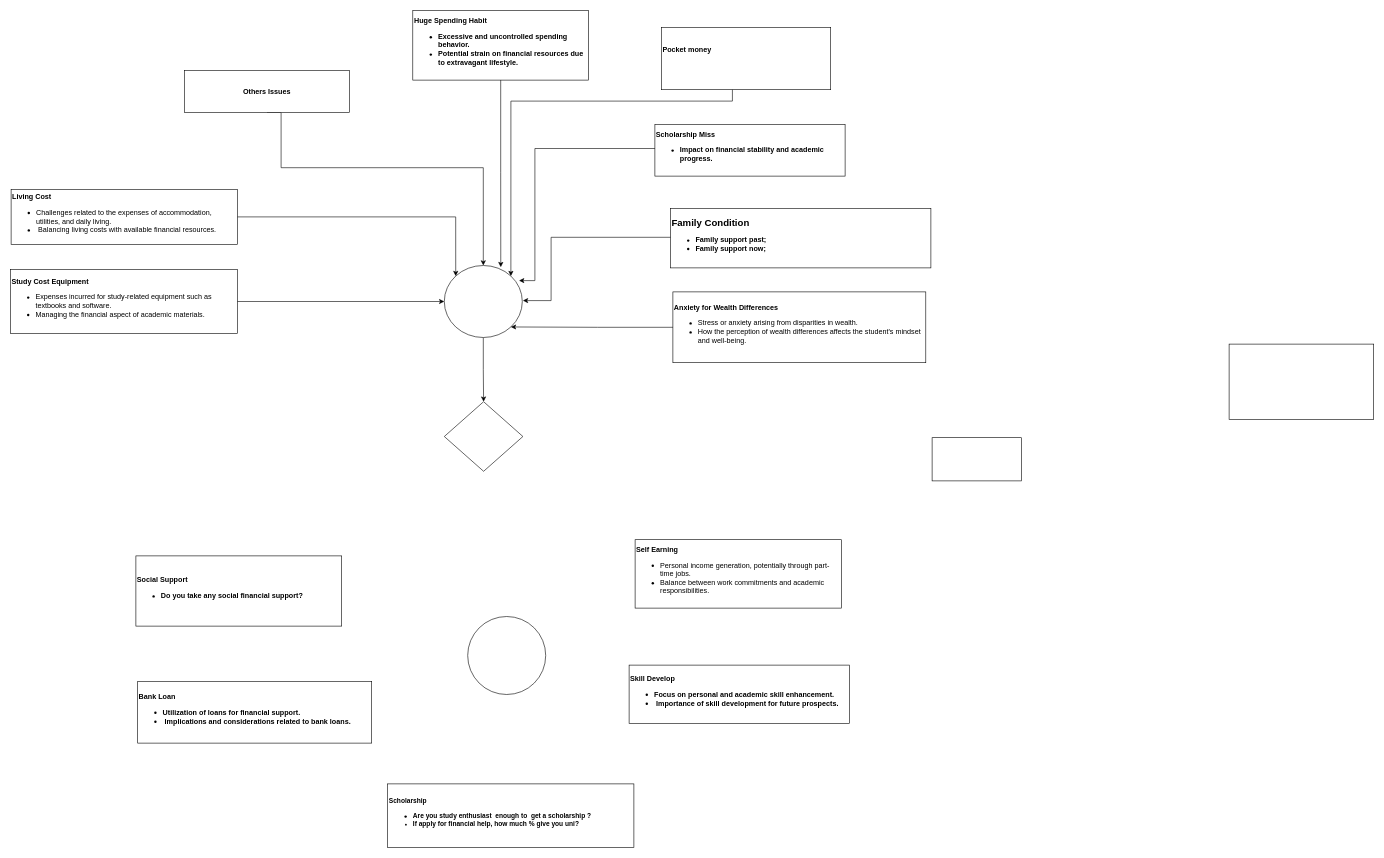
The diagram is 1384 pixels wide and 858 high, and some of its shapes have lost their labels. The centre of each missing label's shape, as x and y in pixels:
CGPA: (977,459)
How Students Can Cope Up: (506,655)
Stress about studying unwanted degree !?!: (1301,382)
Student Economic Lacking: (483,301)
